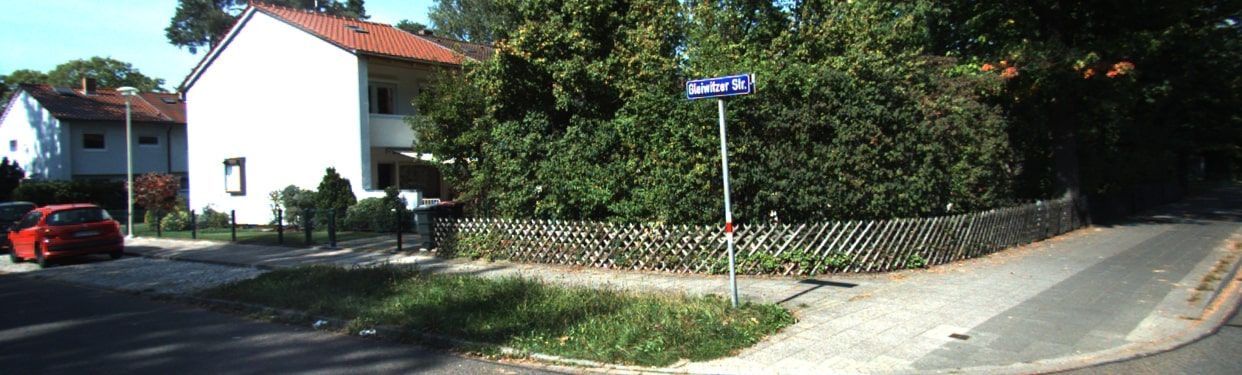car: (10, 200, 132, 261)
